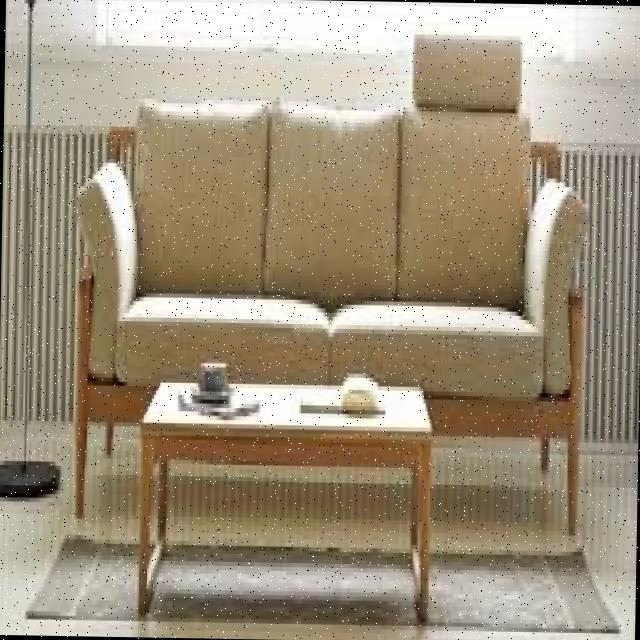Sofa: (52, 8, 618, 538)
